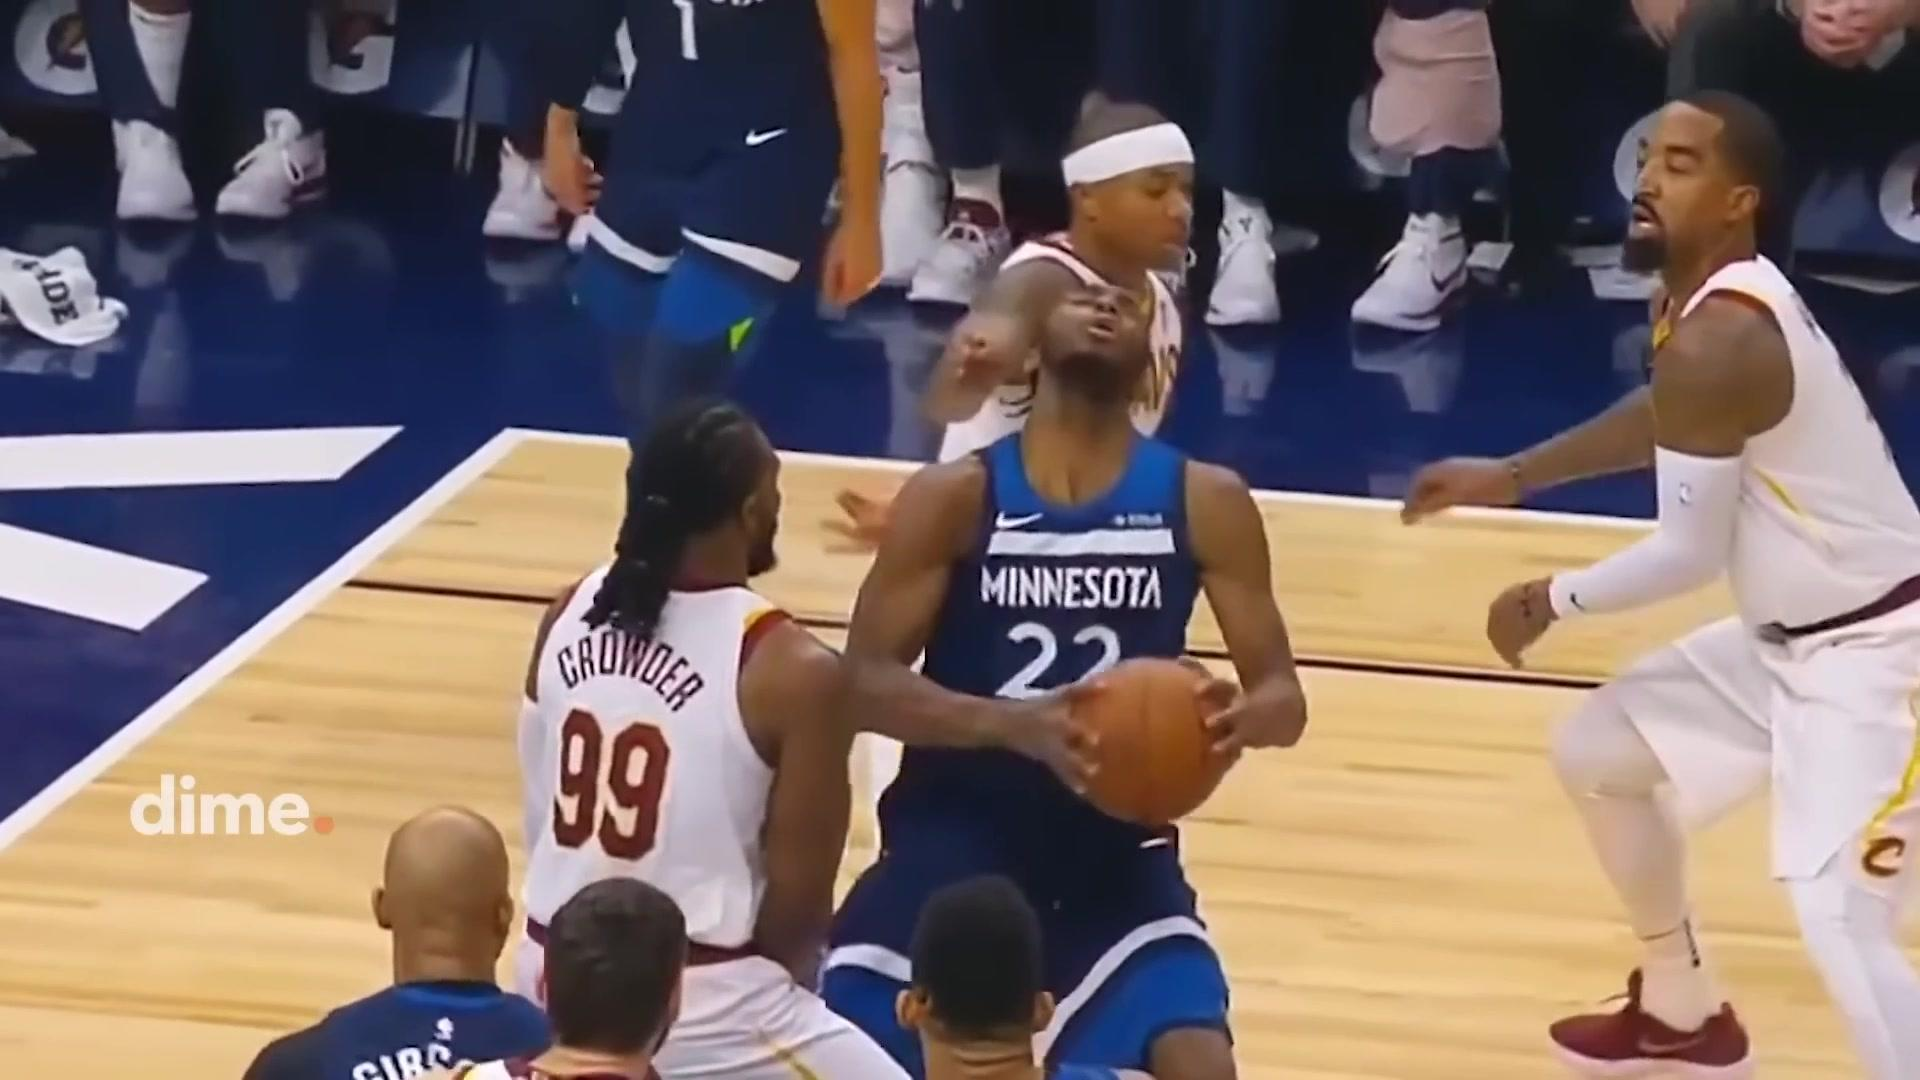no_foul: (845, 104, 1266, 1072)
